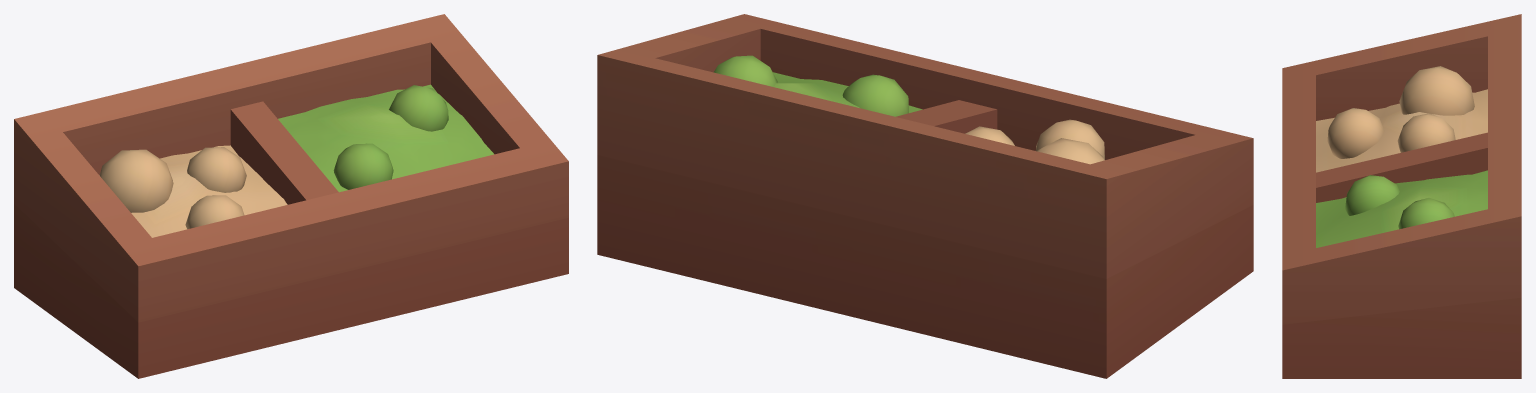
The model's file is kaykit-medieval-hexagon-pack-crate-long-b.glb.
3 views of the same model, side by side, from view 1: azimuth 30°, elevation 25°; view 2: azimuth 150°, elevation 25°; view 3: azimuth 270°, elevation 25° (orthographic). The views are drawn at different scales.
Parts seen in each view (by area): view 1: crate_long_B; view 2: crate_long_B; view 3: crate_long_B.
Part boxes in pixels (x1,y1,x2,y2): crate_long_B: [14, 14, 568, 378]; crate_long_B: [597, 14, 1253, 378]; crate_long_B: [1282, 14, 1521, 378].
Size of the model in its own units: 0.4 by 0.15 by 0.2.
1 material, 1 textured.
